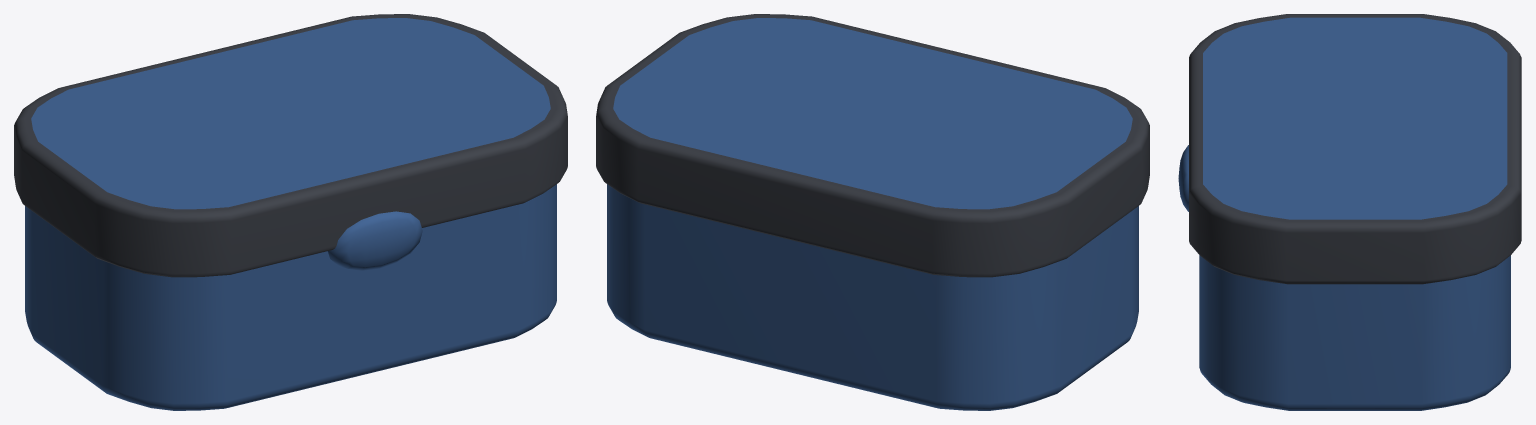
File: broodtrommertwocol.fbx
3 renders of one model, left to right at view 1: azimuth 30°, elevation 25°; view 2: azimuth 150°, elevation 25°; view 3: azimuth 270°, elevation 25°, orthographic. The views are drawn at different scales.
Visible parts, largest first — view 1: group3_pCube2; view 2: group3_pCube2; view 3: group3_pCube2.
Part boxes in pixels (x1=…): group3_pCube2: x1=14, y1=14, x2=567, y2=410; group3_pCube2: x1=596, y1=14, x2=1149, y2=410; group3_pCube2: x1=1178, y1=14, x2=1521, y2=410.
Size of the model in its own units: 6.08 by 2.55 by 4.1.
